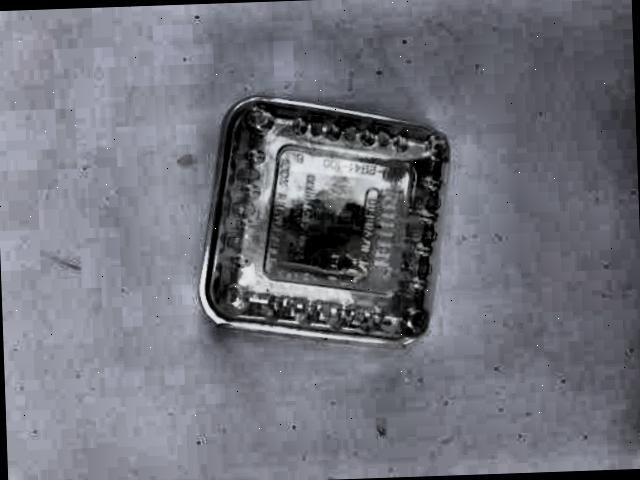Plastic: (195, 86, 454, 353)
